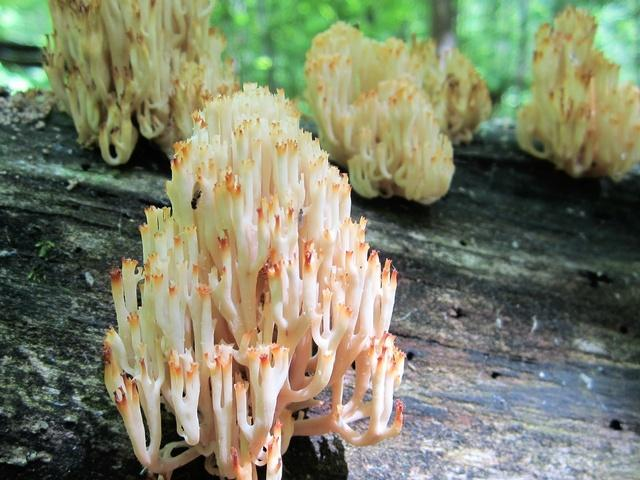Edible Mushroom: (101, 81, 407, 478), (302, 20, 492, 205), (39, 0, 238, 166), (514, 5, 639, 181)
